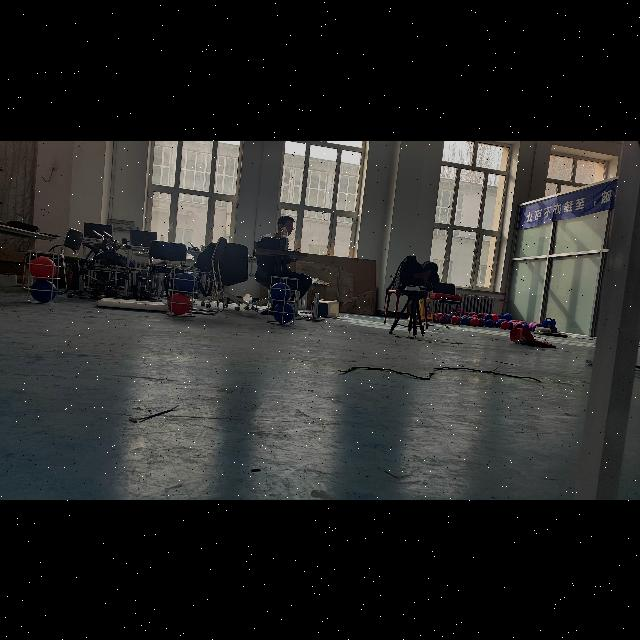B: (30, 280, 59, 302), (174, 272, 198, 294), (272, 302, 294, 322), (270, 282, 290, 300)
R: (29, 255, 56, 279), (168, 292, 190, 314)
S: (24, 247, 64, 305), (264, 274, 302, 328), (166, 264, 200, 318)
